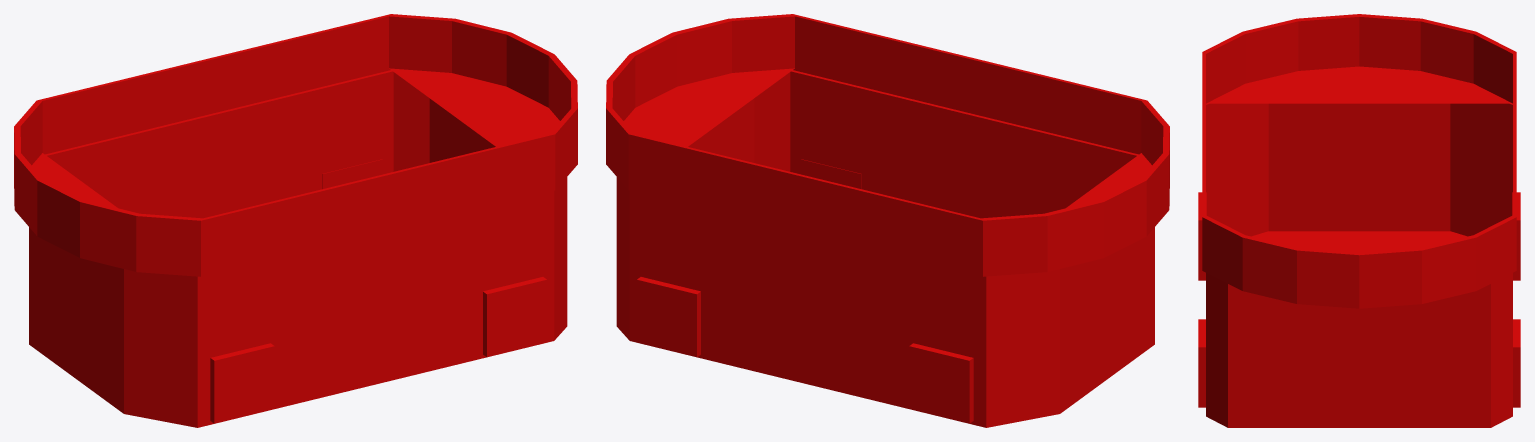
The model's file is chassis.dae.
The picture shows the model from 3 angles, left to right: view 1: azimuth 30°, elevation 25°; view 2: azimuth 150°, elevation 25°; view 3: azimuth 270°, elevation 25°; orthographic projection. The views are drawn at different scales.
Parts seen in each view (by area): view 1: Chassis; view 2: Chassis; view 3: Chassis.
Boxes of the visible parts, x1=… form: Chassis: x1=14, y1=14, x2=577, y2=427; Chassis: x1=606, y1=14, x2=1169, y2=427; Chassis: x1=1198, y1=14, x2=1520, y2=427.
Size of the model in its own units: 0.4972 by 0.2807 by 0.1913.
